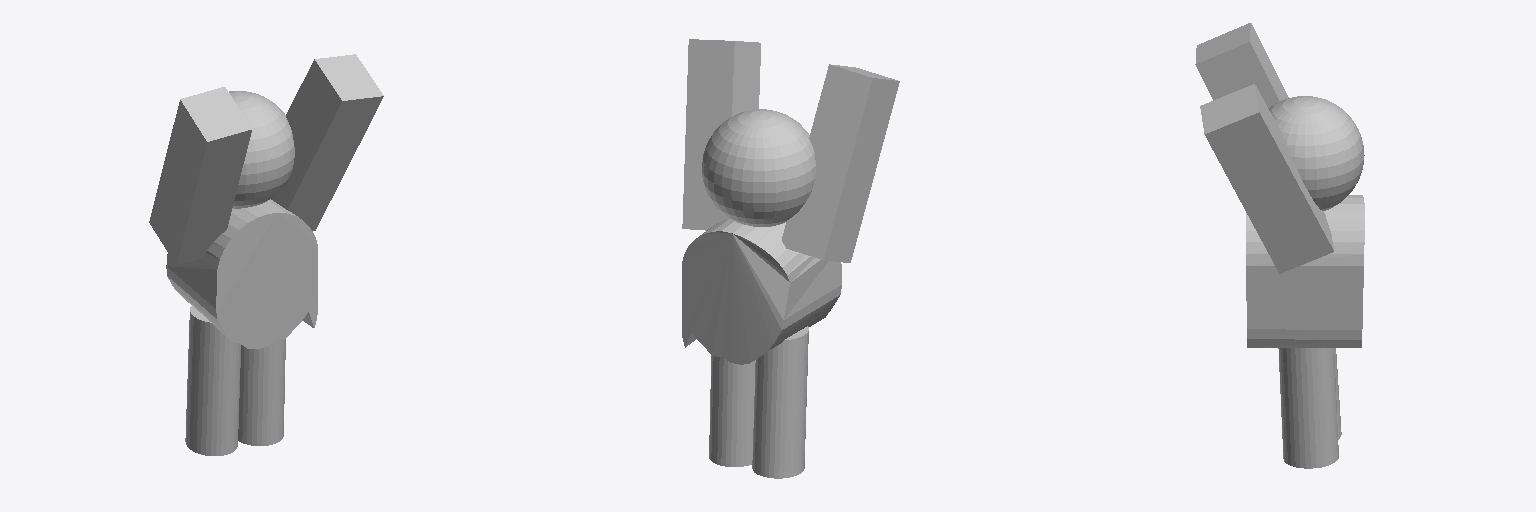
File: Figurine168.obj
3 views of the same model, side by side, from view 1: azimuth 30°, elevation 25°; view 2: azimuth 150°, elevation 25°; view 3: azimuth 270°, elevation 25° (orthographic).
Visible parts, largest first — view 1: Cylinder; view 2: Cylinder; view 3: Cylinder.
Boxes of the visible parts, x1,y1,x2,y2 form: Cylinder: [149, 54, 383, 455]; Cylinder: [682, 39, 899, 478]; Cylinder: [1195, 23, 1364, 468].
Size of the model in its own units: 3.52 by 7.24 by 2.85.